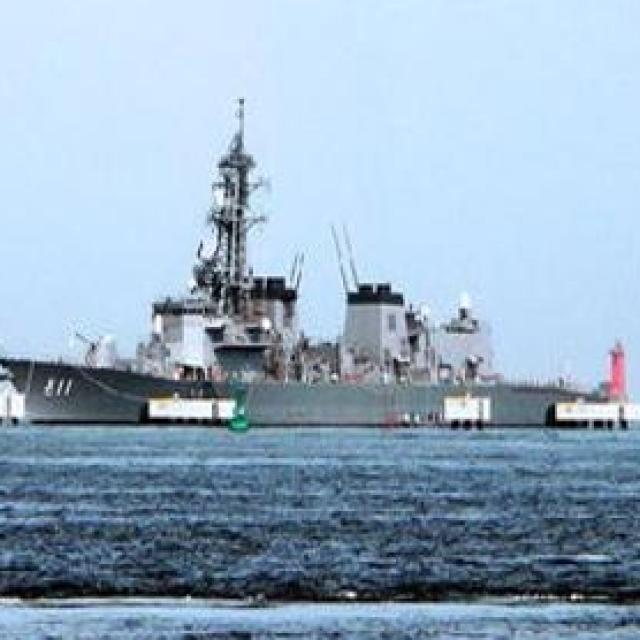navalvessels: (0, 104, 622, 446)
